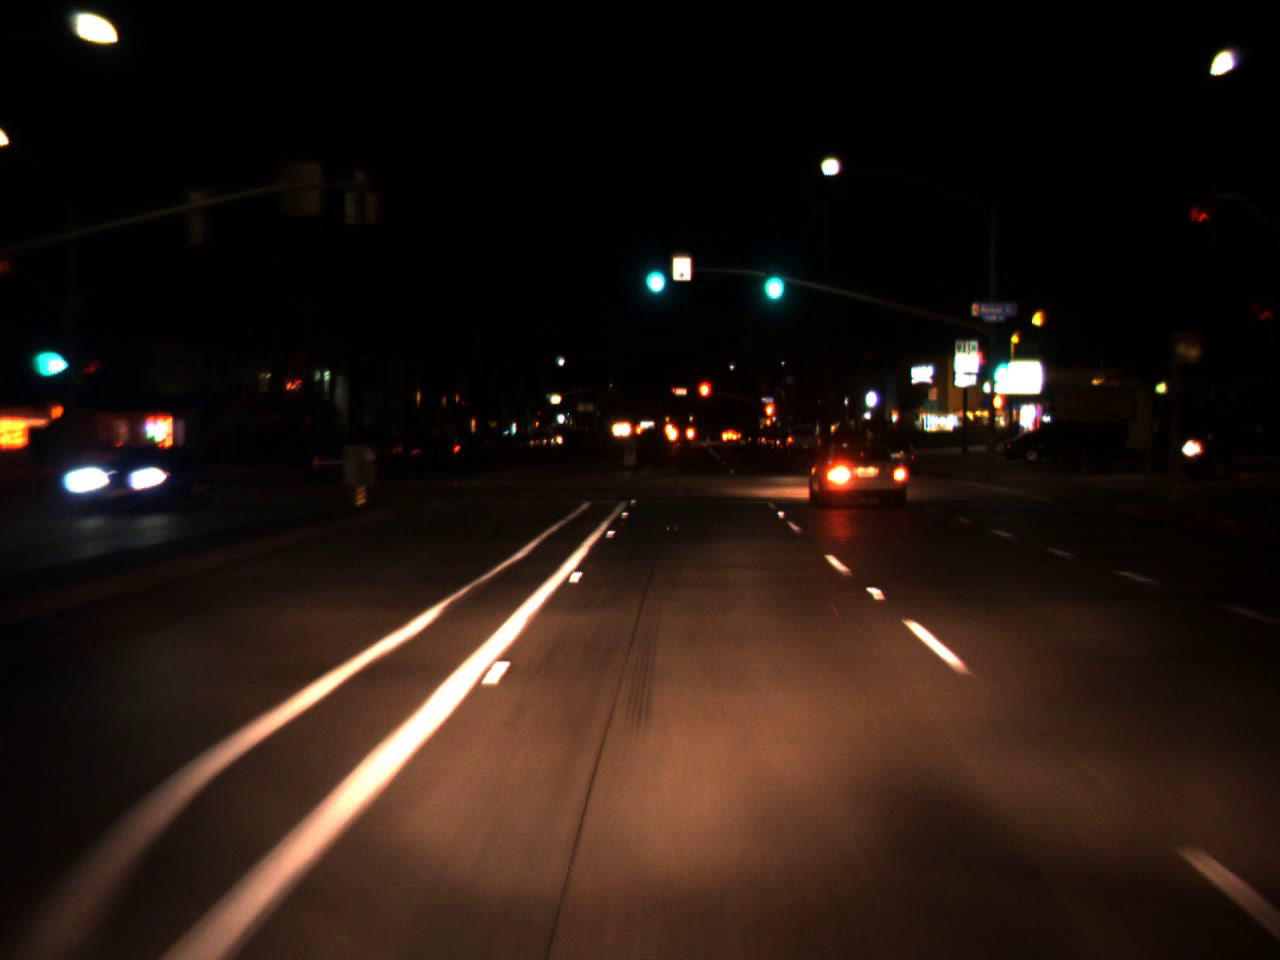go: (23, 319, 64, 382), (757, 246, 787, 309), (638, 245, 668, 299), (990, 345, 1011, 387)
stop: (696, 379, 712, 414), (762, 401, 775, 433)
